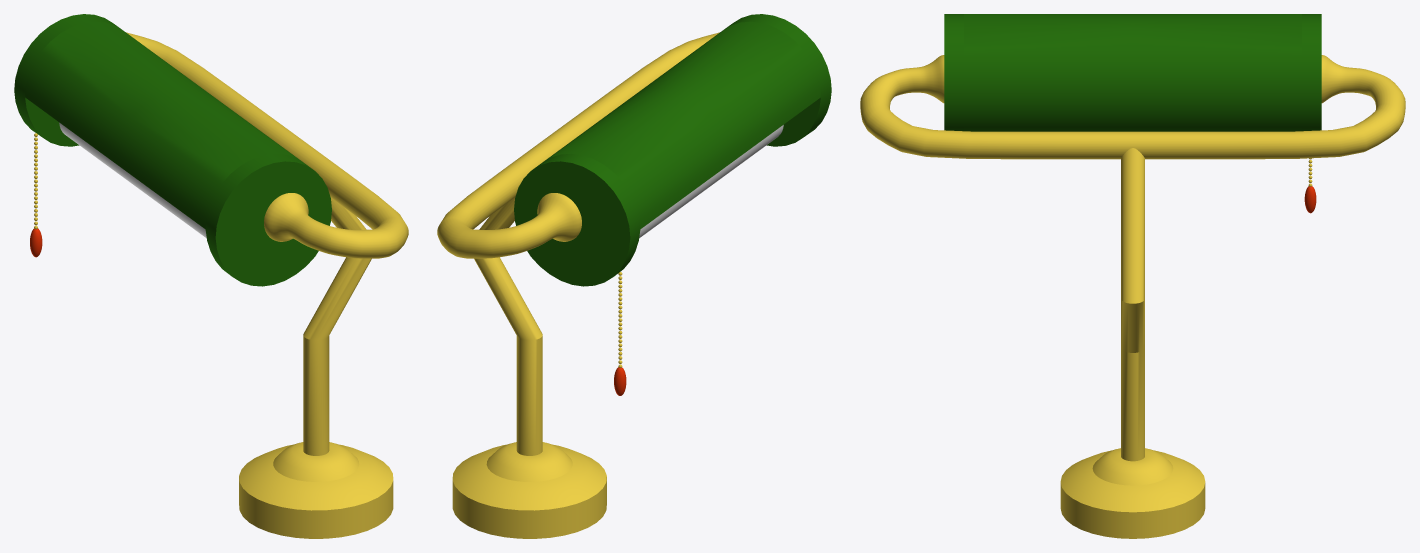
The model's file is desk lamp.fbx.
The picture shows the model from 3 angles, left to right: view 1: azimuth 30°, elevation 25°; view 2: azimuth 150°, elevation 25°; view 3: azimuth 270°, elevation 25°; orthographic projection. The views are drawn at different scales.
Visible parts, largest first — view 1: Cylinder.002, Cylinder, Cylinder.001, Cylinder.003; view 2: Cylinder.002, Cylinder, Cylinder.001, Cylinder.003; view 3: Cylinder.002, Cylinder.001, Cylinder.
Part boxes in pixels (bbox=[...]): Cylinder.002: bbox=[14, 14, 331, 286]; Cylinder: bbox=[239, 197, 393, 538]; Cylinder.001: bbox=[126, 32, 408, 258]; Cylinder.003: bbox=[59, 122, 206, 237]; Cylinder.002: bbox=[514, 14, 831, 286]; Cylinder: bbox=[452, 197, 606, 538]; Cylinder.001: bbox=[437, 32, 719, 258]; Cylinder.003: bbox=[639, 125, 783, 237]; Cylinder.002: bbox=[944, 14, 1321, 131]; Cylinder.001: bbox=[860, 55, 1405, 159]; Cylinder: bbox=[1060, 148, 1205, 538].
Bounding box in the file's own units: 737 × 1186 × 1386.
